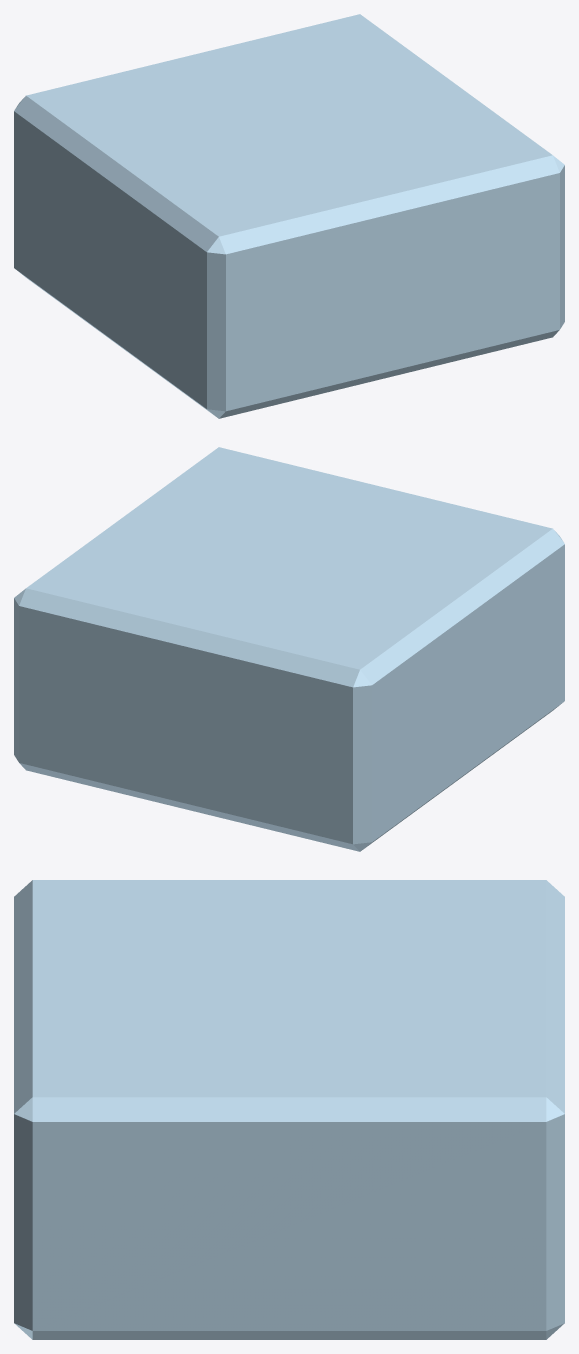
File: R4B_Slab2x2.glb
3 views of the same model, one above another, from view 1: azimuth 30°, elevation 25°; view 2: azimuth 150°, elevation 25°; view 3: azimuth 270°, elevation 25° (orthographic). The views are drawn at different scales.
Visible parts, largest first — view 1: R4B_Slab2x2; view 2: R4B_Slab2x2; view 3: R4B_Slab2x2.
Boxes of the visible parts, x1,y1,x2,y2 form: R4B_Slab2x2: (14, 14, 564, 418); R4B_Slab2x2: (14, 447, 564, 851); R4B_Slab2x2: (14, 880, 564, 1339).
Size of the model in its own units: 1.07 by 0.52 by 1.07.
